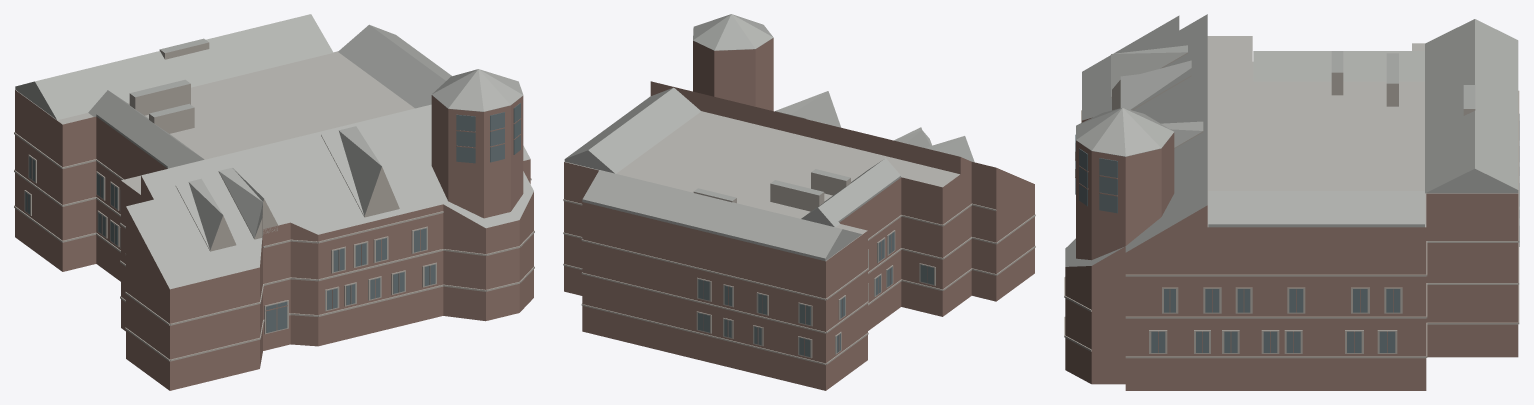
File: cascade-hall-massing-review-2026-11-23.glb
The picture shows the model from 3 angles, left to right: view 1: azimuth 30°, elevation 25°; view 2: azimuth 150°, elevation 25°; view 3: azimuth 270°, elevation 25°; orthographic projection. The views are drawn at different scales.
Visible parts, largest first — view 1: roof-f42d2ea3; view 2: roof-f42d2ea3; view 3: roof-f42d2ea3.
Boxes of the visible parts, <box> form: roof-f42d2ea3: <box>14,14,534,390</box>; roof-f42d2ea3: <box>563,14,1035,390</box>; roof-f42d2ea3: <box>1064,14,1519,390</box>.
Bounding box in the file's own units: 39.77 × 22.72 × 36.92.
